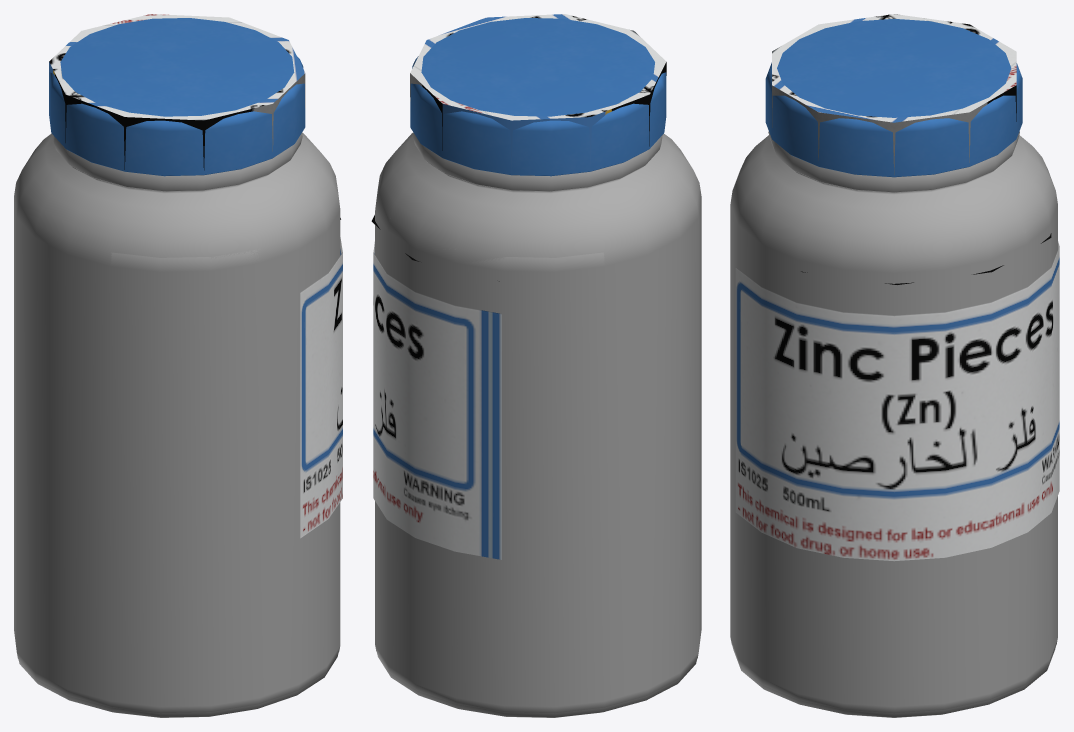
Rendered from Green2_Container.fbx.
3 views of the same model, side by side, from view 1: azimuth 30°, elevation 25°; view 2: azimuth 150°, elevation 25°; view 3: azimuth 270°, elevation 25° (orthographic).
Visible parts, largest first — view 1: Green_Vial_LOD0, Green_Vial_Colldr, Green_Cap_LOD0, Zinc_Label, Green_Cap_colldr; view 2: Green_Vial_LOD0, Green_Vial_Colldr, Zinc_Label, Green_Cap_LOD0, Green_Cap_colldr; view 3: Green_Vial_LOD0, Zinc_Label, Green_Cap_LOD0, Green_Cap_colldr, Green_Vial_Colldr.
Part boxes in pixels (x1,y1,x2,y2): Green_Vial_LOD0: (14, 132, 340, 713); Green_Vial_Colldr: (18, 162, 338, 717); Green_Cap_LOD0: (49, 18, 305, 176); Zinc_Label: (300, 237, 342, 538); Green_Cap_colldr: (49, 14, 305, 170); Green_Vial_LOD0: (375, 132, 701, 713); Green_Vial_Colldr: (377, 162, 696, 717); Zinc_Label: (373, 242, 501, 559); Green_Cap_LOD0: (410, 18, 666, 176); Green_Cap_colldr: (410, 14, 666, 172); Green_Vial_LOD0: (730, 131, 1057, 713); Zinc_Label: (735, 241, 1059, 561); Green_Cap_LOD0: (765, 18, 1022, 177); Green_Cap_colldr: (772, 14, 1016, 174); Green_Vial_Colldr: (733, 171, 1055, 717).
Size of what is drawn, in the model's own units: 7.08 by 13.85 by 7.05.
2 materials, 1 textured.
